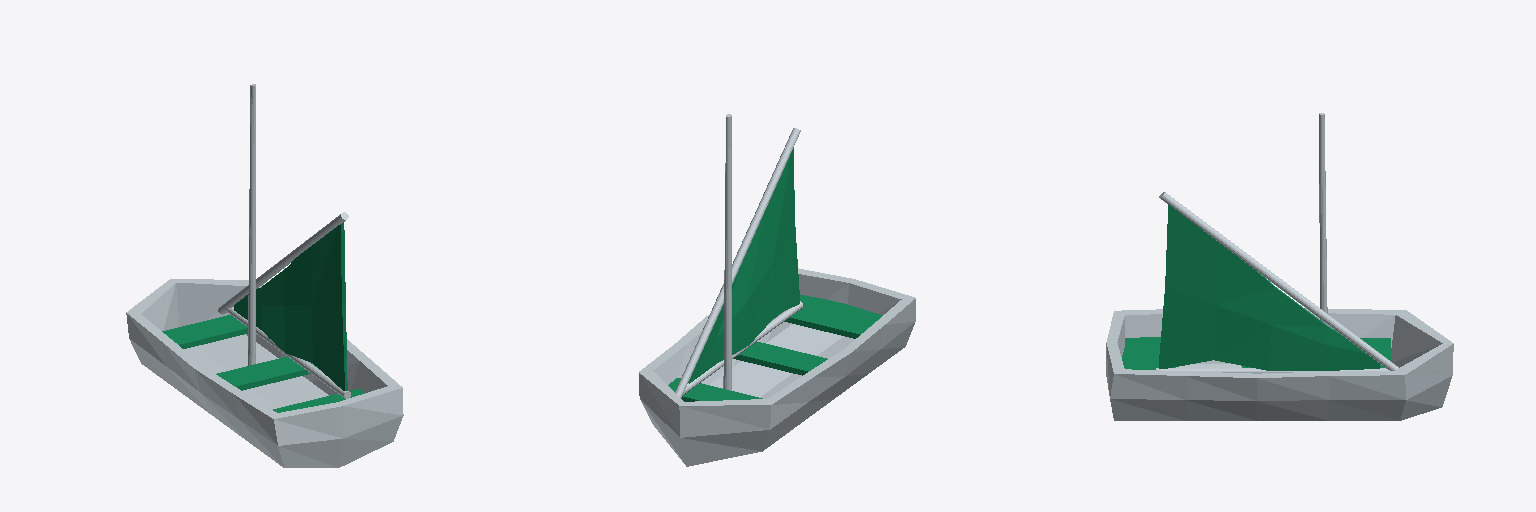
Rendered from boot2+.obj.
The picture shows the model from 3 angles: view 1: azimuth 30°, elevation 25°; view 2: azimuth 150°, elevation 25°; view 3: azimuth 270°, elevation 25°; orthographic projection.
Visible parts, largest first — view 1: Cube_Cube.001; view 2: Cube_Cube.001; view 3: Cube_Cube.001.
Boxes of the visible parts, x1,y1,x2,y2 form: Cube_Cube.001: [126, 84, 403, 467]; Cube_Cube.001: [639, 114, 915, 466]; Cube_Cube.001: [1106, 113, 1453, 420].
Bounding box in the file's own units: 2.83 × 5.6 × 5.83.